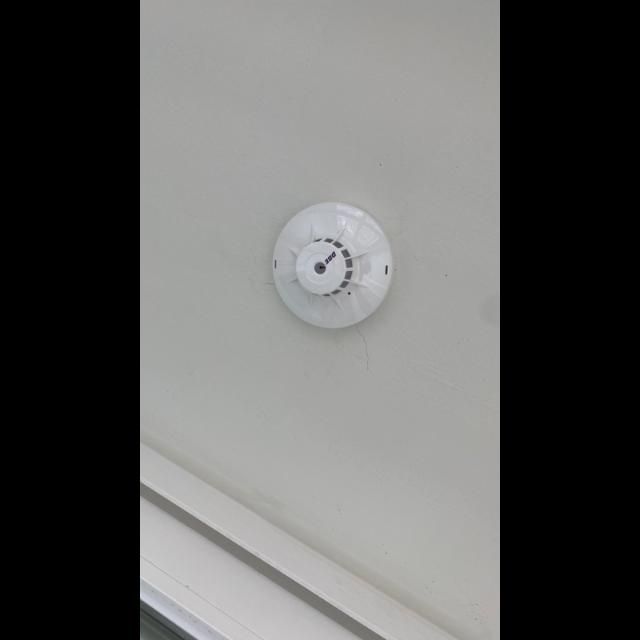Smoke-Detector: (272, 201, 392, 329)
